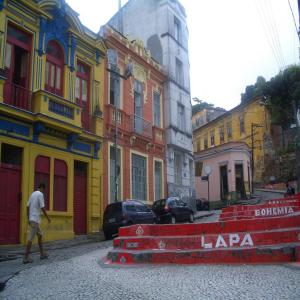Vehicle-registration-plate: (110, 219, 116, 224)
